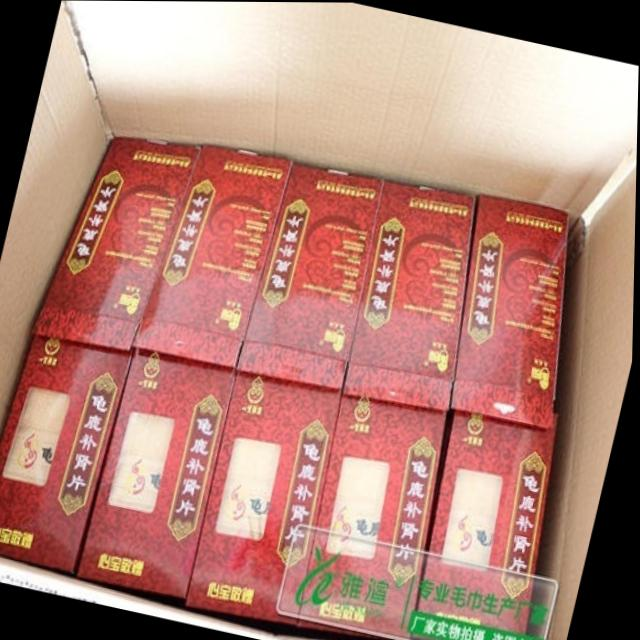box: (0, 0, 639, 640), (186, 368, 344, 623), (79, 349, 238, 597), (131, 143, 295, 367), (30, 136, 201, 350), (298, 395, 449, 637), (239, 159, 384, 390), (416, 409, 559, 640), (0, 333, 133, 576), (344, 177, 477, 409), (451, 193, 571, 429)
